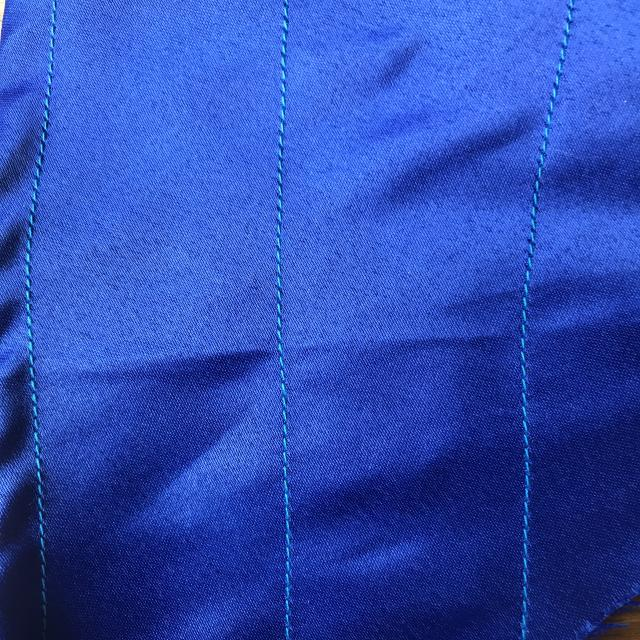good: (256, 212, 304, 362)
